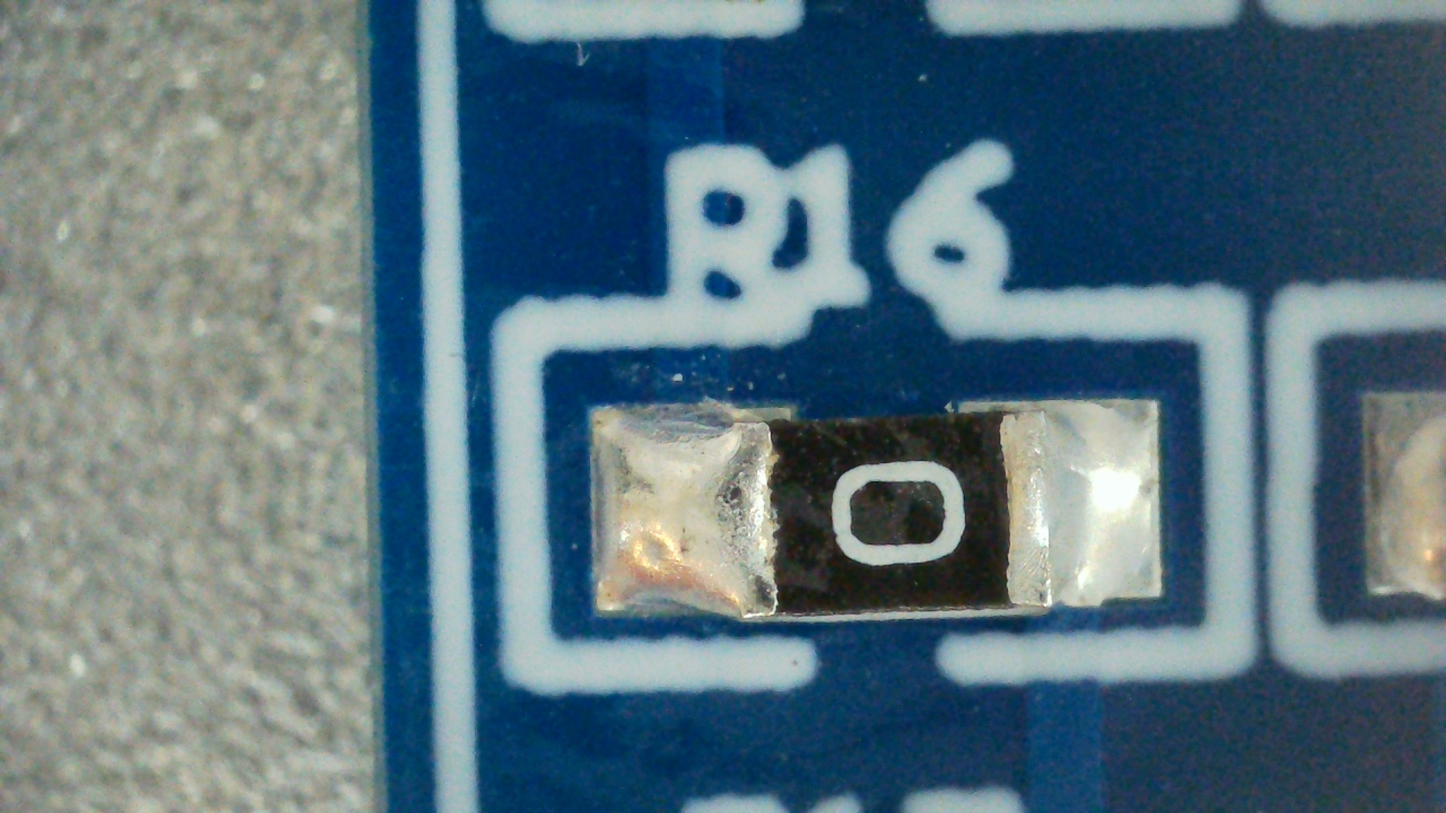OK: (591, 399, 1161, 620)
